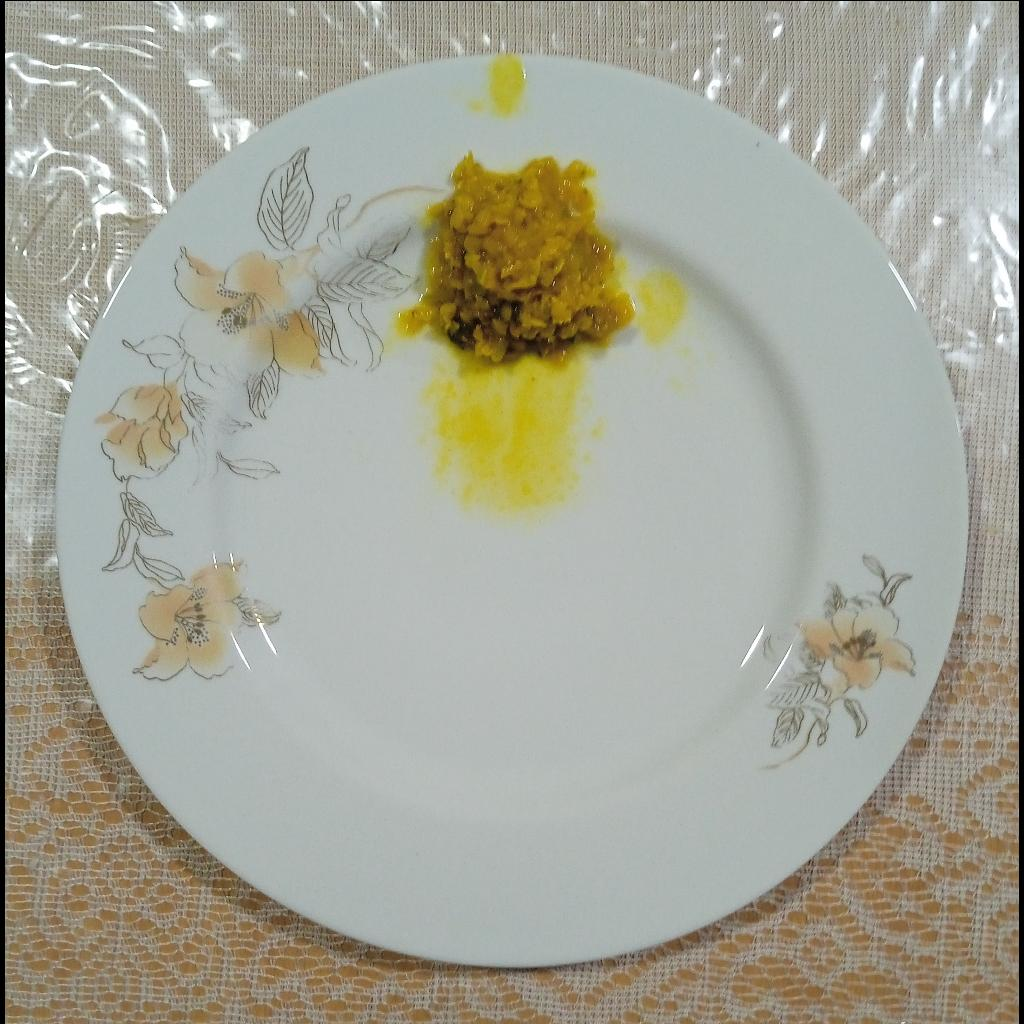daal: (417, 156, 636, 360)
